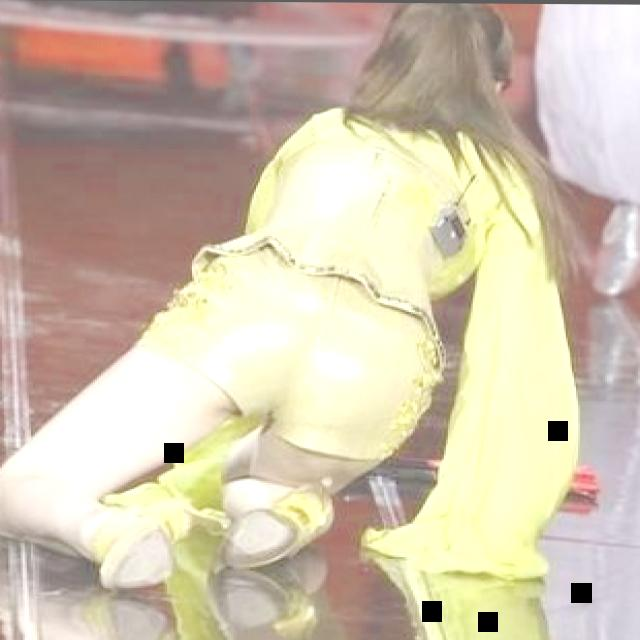Fall-Detected: (11, 0, 620, 622)
